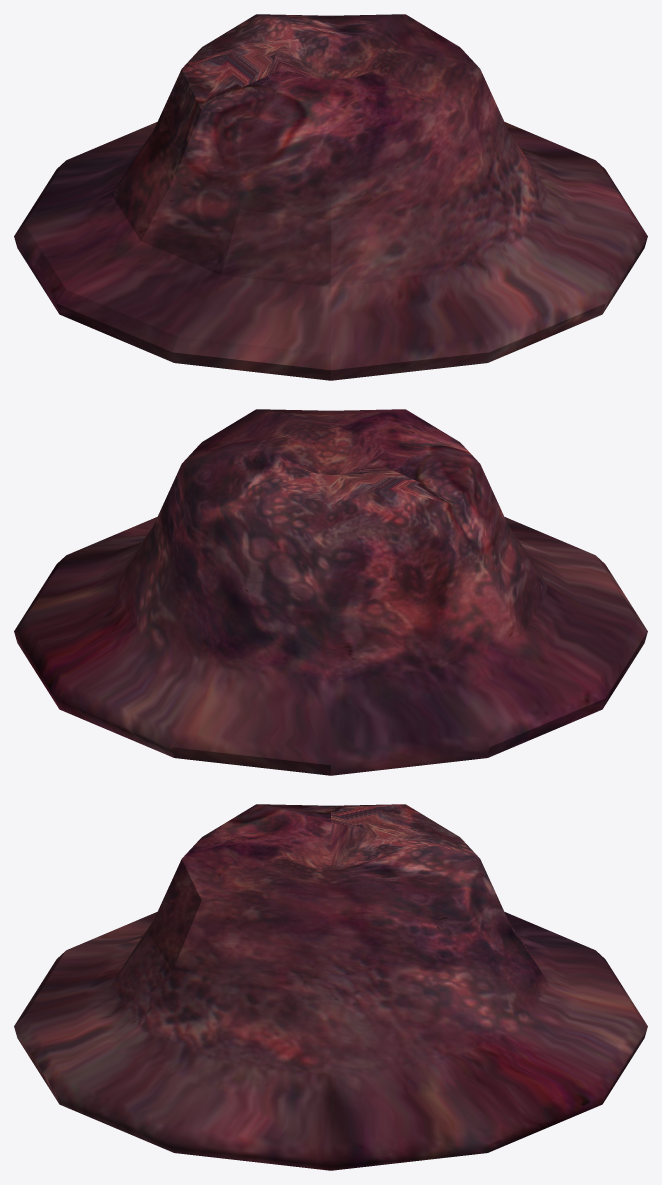
Rendered from festering mass.gltf.
The picture shows the model from 3 angles, top to bottom: view 1: azimuth 30°, elevation 25°; view 2: azimuth 150°, elevation 25°; view 3: azimuth 270°, elevation 25°; orthographic projection.
Parts seen in each view (by area): view 1: Sphere; view 2: Sphere; view 3: Sphere.
Part boxes in pixels (x1,y1,x2,y2): Sphere: (14,14,647,380); Sphere: (14,409,647,775); Sphere: (14,804,647,1170).
Bounding box in the file's own units: 11.9 × 3.98 × 11.9.
Materials: 1 (1 with a texture image).
